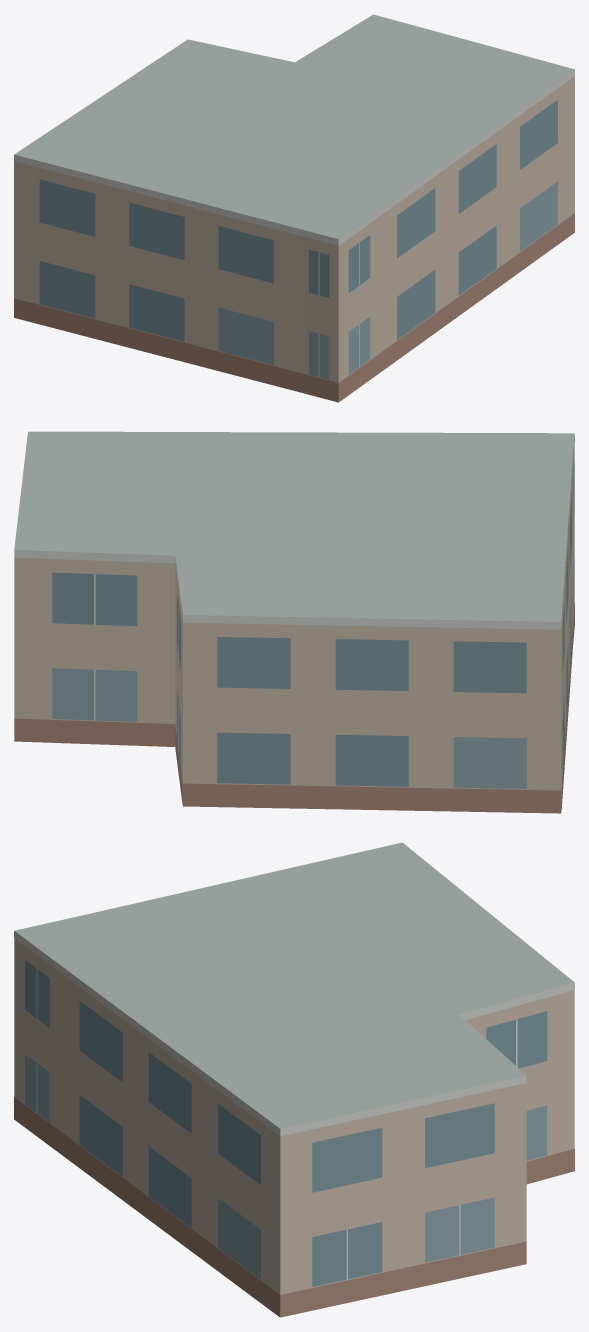
The model's file is survey-upis-32771761.glb.
3 renders of one model, top to bottom at view 1: azimuth 30°, elevation 25°; view 2: azimuth 150°, elevation 25°; view 3: azimuth 270°, elevation 25°, orthographic. The views are drawn at different scales.
Parts seen in each view (by area): view 1: survey-upis-32771761.tmp; view 2: survey-upis-32771761.tmp; view 3: survey-upis-32771761.tmp.
Boxes of the visible parts, left/top/right/bottom form: survey-upis-32771761.tmp: left=14, top=14, right=574, bottom=402; survey-upis-32771761.tmp: left=14, top=431, right=574, bottom=813; survey-upis-32771761.tmp: left=14, top=842, right=574, bottom=1317.
Bounding box in the file's own units: 19.87 × 6.1 × 16.44.
